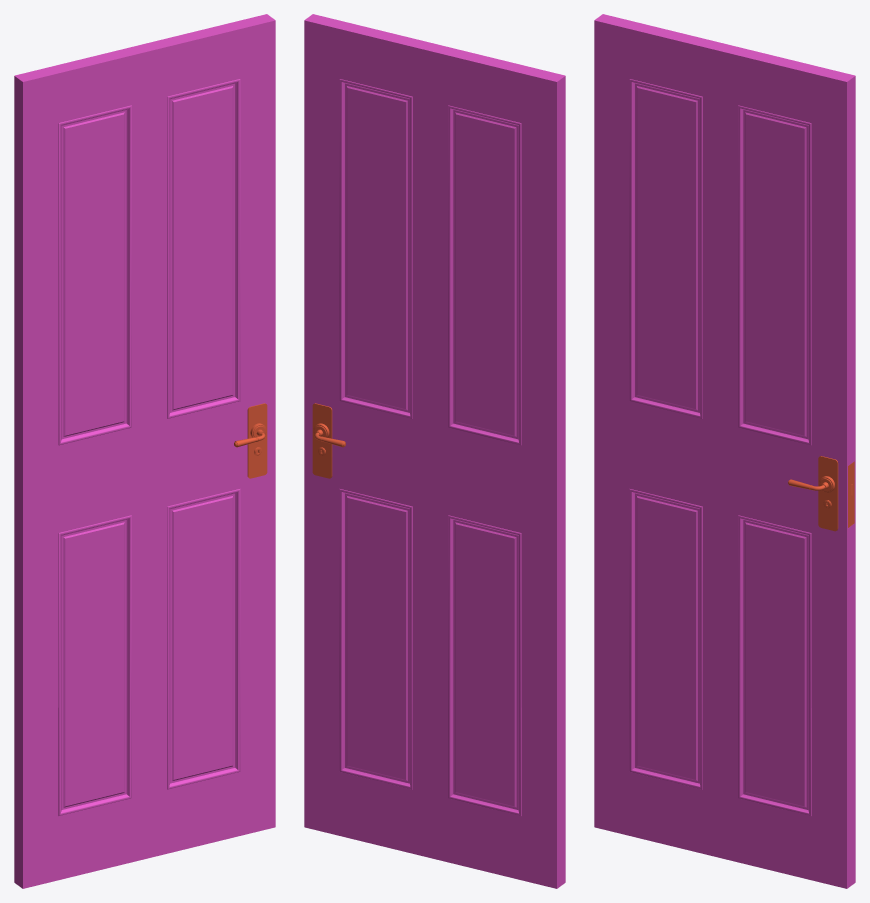
The model's file is Modular_Puerta.fbx.
The picture shows the model from 3 angles, left to right: view 1: azimuth 30°, elevation 25°; view 2: azimuth 150°, elevation 25°; view 3: azimuth 330°, elevation 25°; orthographic projection.
Visible parts, largest first — view 1: Puerta.001; view 2: Puerta.001; view 3: Puerta.001.
Boxes of the visible parts, x1=… form: Puerta.001: x1=14, y1=14, x2=275, y2=888; Puerta.001: x1=304, y1=14, x2=565, y2=888; Puerta.001: x1=594, y1=14, x2=855, y2=888.
Bounding box in the file's own units: 100 × 305 × 19.96.
